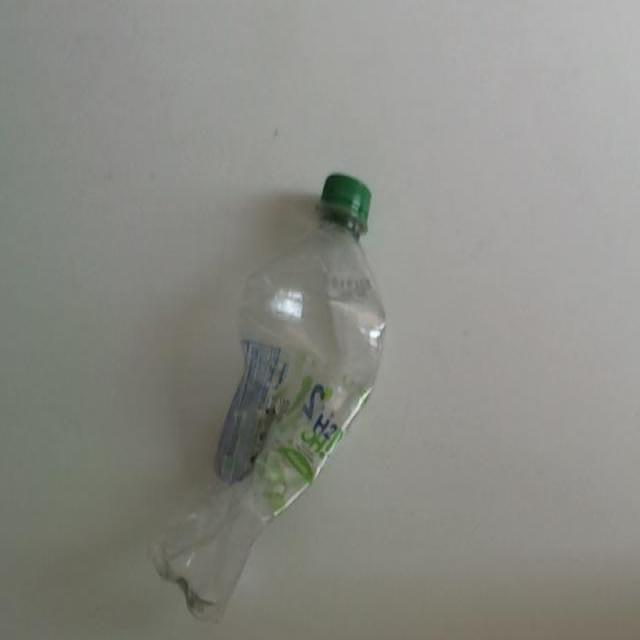defect: (149, 168, 390, 628)
